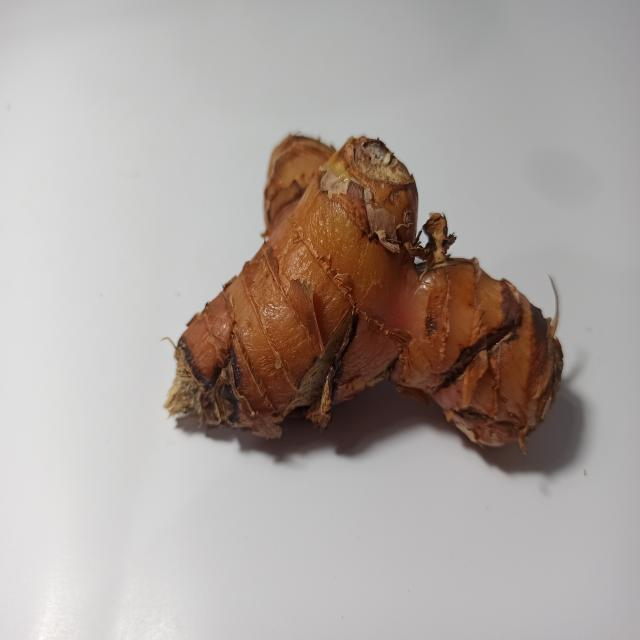ginger: (156, 103, 564, 480)
